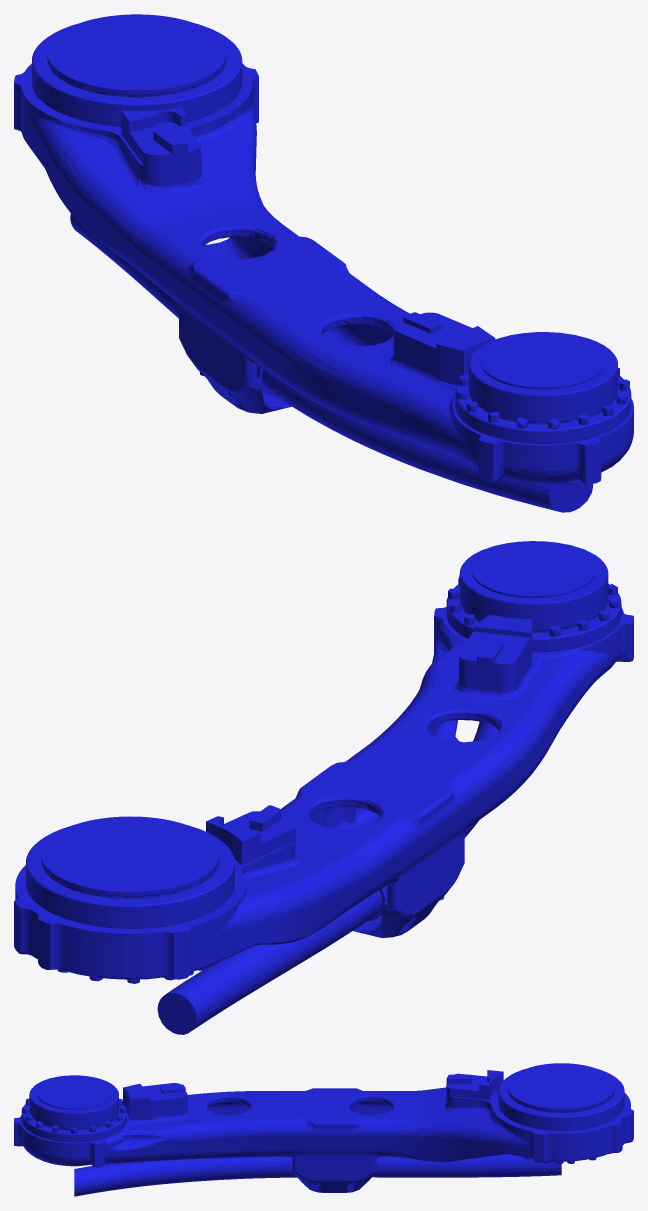
3 renders of one model, top to bottom at view 1: azimuth 30°, elevation 25°; view 2: azimuth 150°, elevation 25°; view 3: azimuth 270°, elevation 25°, orthographic. The views are drawn at different scales.
Parts seen in each view (by area): view 1: /Gp12_Link_2_L/Gp12_Link_2_L-mesh/0; view 2: /Gp12_Link_2_L/Gp12_Link_2_L-mesh/0; view 3: /Gp12_Link_2_L/Gp12_Link_2_L-mesh/0.
Part boxes in pixels (left/top/right/bottom): /Gp12_Link_2_L/Gp12_Link_2_L-mesh/0: left=14, top=14, right=633, bottom=512; /Gp12_Link_2_L/Gp12_Link_2_L-mesh/0: left=14, top=541, right=633, bottom=1034; /Gp12_Link_2_L/Gp12_Link_2_L-mesh/0: left=14, top=1063, right=633, bottom=1196.
Size of the model in its own units: 0.1965 by 0.1575 by 0.7813.
